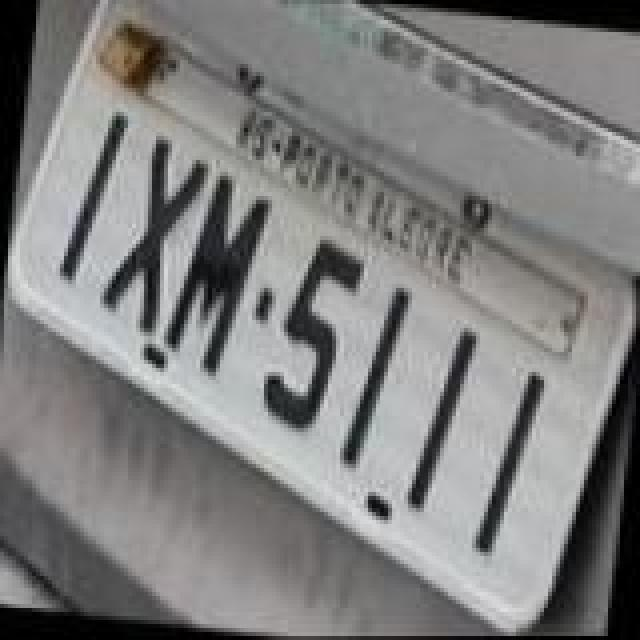1: (400, 318, 480, 518), (468, 360, 548, 560), (334, 278, 414, 474), (52, 100, 132, 284)
5: (254, 230, 370, 438)
M: (158, 166, 278, 382)
X: (94, 126, 214, 342)
